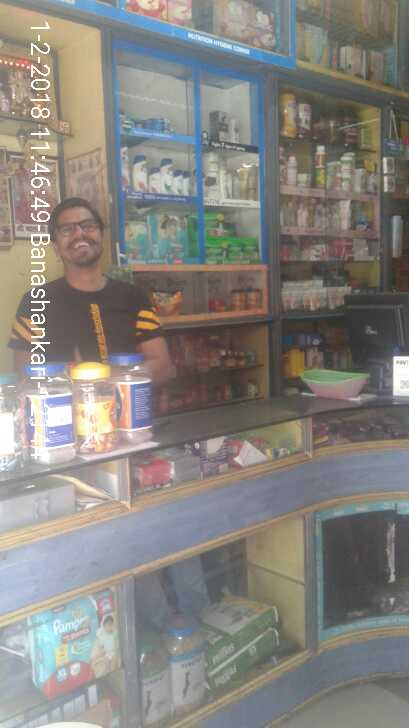beauty: (238, 159, 259, 201), (207, 111, 229, 141), (133, 155, 149, 191), (159, 157, 173, 195), (241, 237, 260, 263), (182, 168, 193, 197), (229, 116, 239, 144), (173, 169, 183, 196), (150, 166, 160, 192)
pharmacy: (150, 209, 189, 262), (124, 221, 149, 263), (203, 239, 225, 267), (226, 238, 242, 265)
